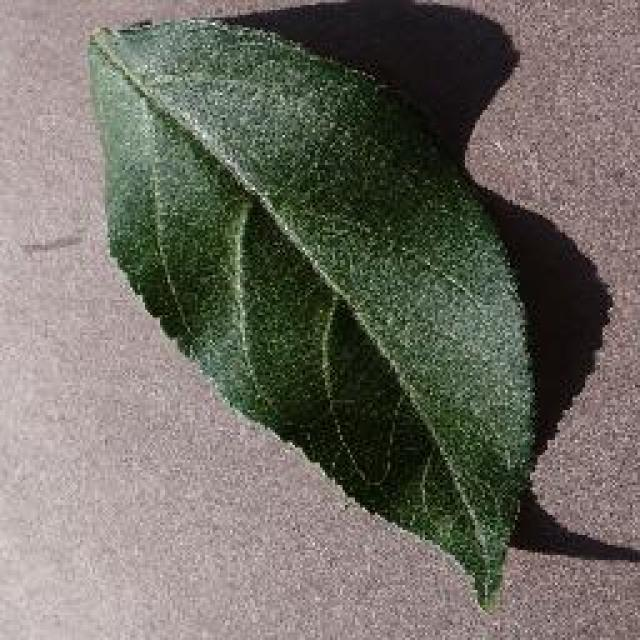apple healthy: (83, 0, 545, 610)
